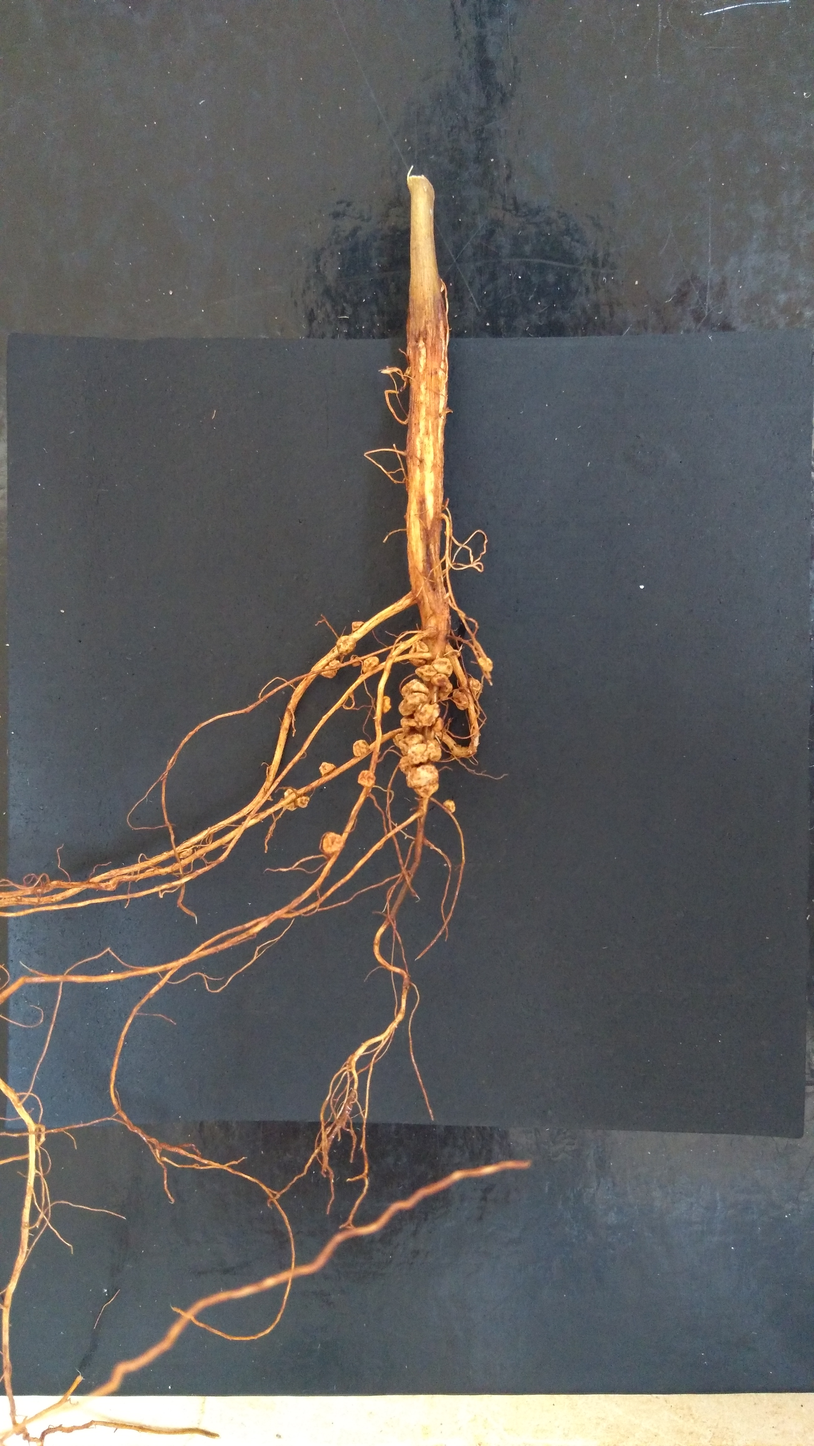nodule: (412, 702, 441, 733), (396, 692, 429, 717), (405, 764, 440, 787), (318, 830, 345, 857), (430, 671, 453, 701), (407, 639, 430, 668), (396, 732, 424, 755), (400, 677, 430, 697), (407, 742, 429, 765), (431, 655, 454, 677), (412, 782, 440, 800), (335, 634, 356, 656), (319, 659, 342, 679), (356, 769, 378, 789), (425, 739, 443, 763), (414, 664, 438, 682), (351, 737, 371, 758), (452, 689, 470, 712), (361, 655, 380, 676), (476, 655, 495, 673), (467, 675, 482, 696), (317, 761, 336, 777), (397, 755, 412, 775), (381, 693, 394, 714), (431, 716, 446, 734), (398, 716, 418, 729), (294, 795, 312, 809), (442, 798, 456, 814), (350, 620, 365, 633), (178, 848, 195, 859), (284, 801, 298, 812), (282, 788, 297, 798), (350, 659, 361, 668)
